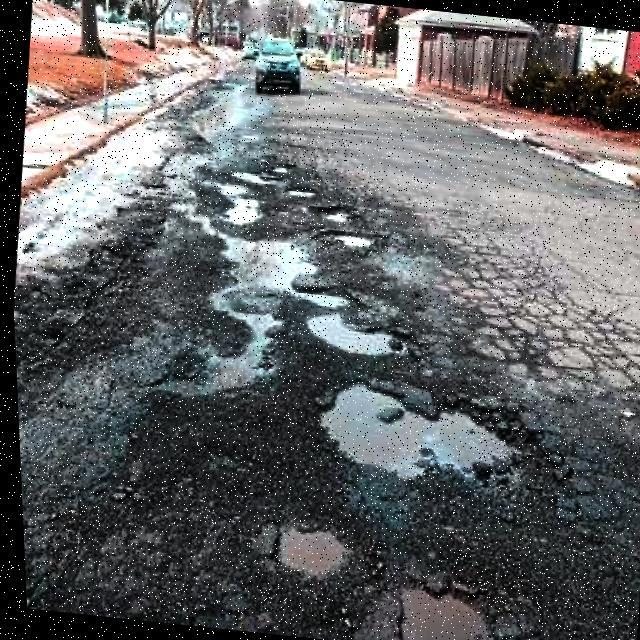pothole: (140, 218, 364, 418), (304, 366, 530, 496), (381, 570, 501, 640), (294, 306, 411, 361), (262, 516, 352, 586), (193, 172, 268, 231), (312, 200, 358, 226), (277, 182, 317, 202)
